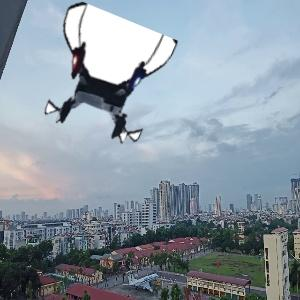drone: (43, 17, 169, 143)
